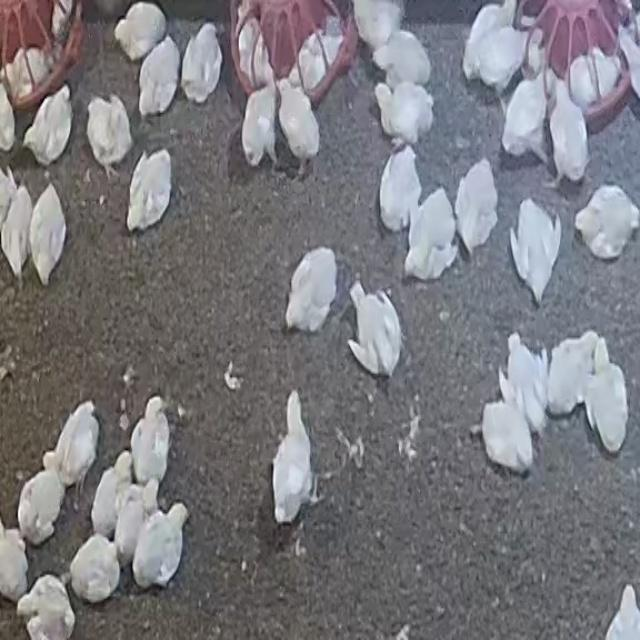chicken: (272, 72, 328, 179), (271, 390, 315, 524), (278, 244, 342, 335), (130, 502, 192, 593), (51, 394, 105, 498), (509, 199, 562, 304), (120, 145, 178, 237), (582, 338, 627, 456), (367, 77, 438, 151), (501, 72, 554, 170), (347, 284, 402, 378), (402, 188, 457, 280), (474, 22, 528, 112), (575, 185, 639, 259), (546, 332, 600, 419), (504, 334, 549, 437), (454, 158, 499, 255), (480, 394, 534, 474), (374, 146, 424, 232), (22, 87, 74, 168), (68, 530, 124, 605), (28, 181, 68, 284), (86, 93, 134, 177), (129, 396, 171, 486), (136, 36, 182, 116), (371, 31, 432, 91), (180, 23, 223, 104), (1, 180, 35, 281), (241, 84, 280, 170), (568, 48, 620, 107), (295, 31, 344, 93), (234, 20, 278, 88), (347, 1, 402, 54), (617, 23, 640, 109), (0, 78, 17, 151), (50, 0, 77, 41)
